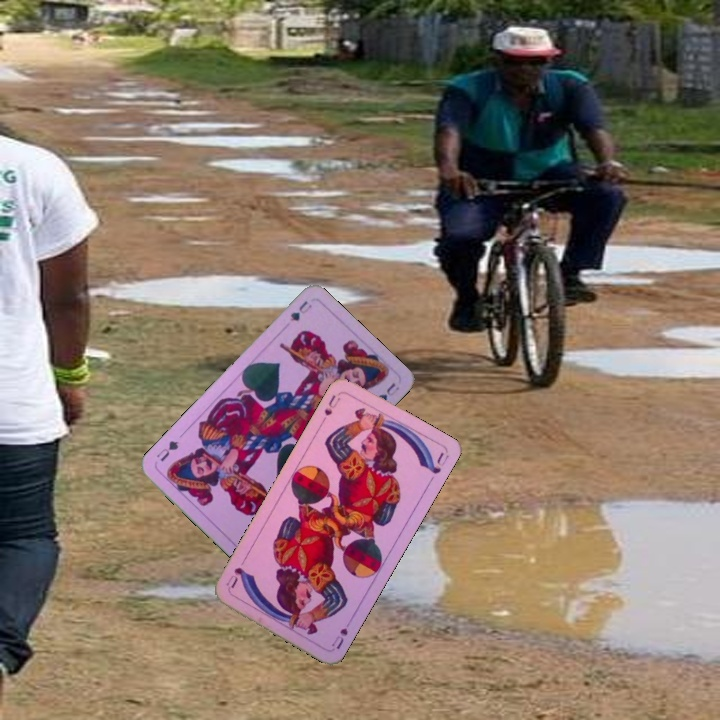GU: (286, 296, 315, 324)
SU: (327, 614, 354, 652), (317, 391, 343, 426)
